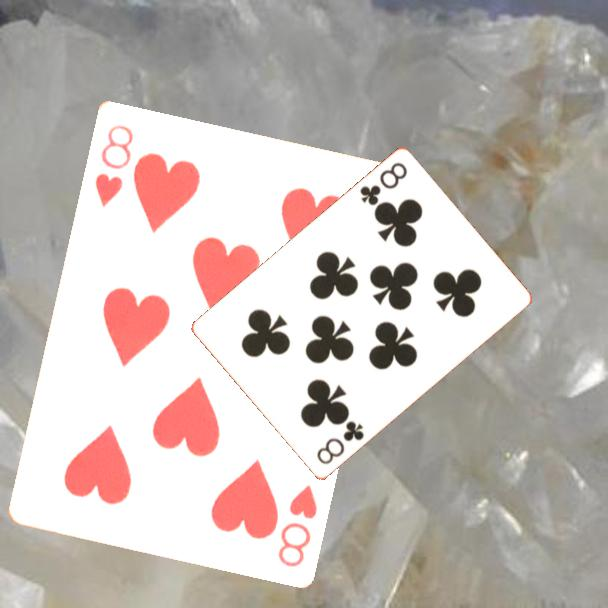c08: (313, 418, 367, 468), (356, 159, 410, 209)
h08: (274, 480, 320, 569), (91, 120, 136, 209)
